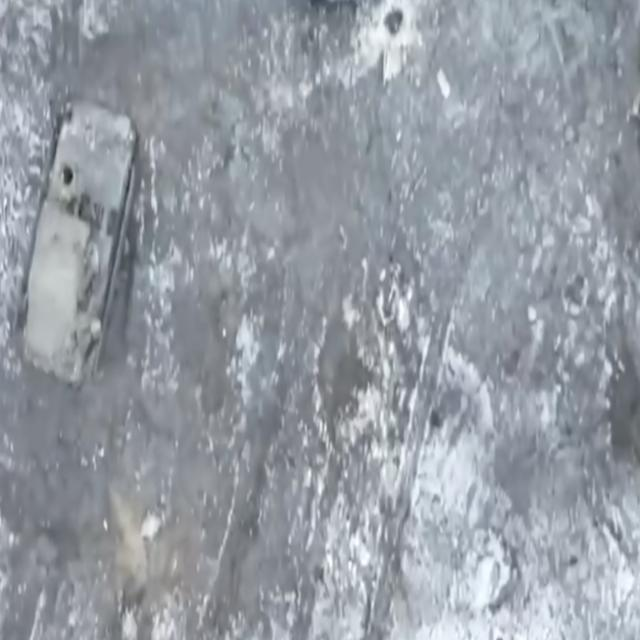vehicle: (20, 99, 139, 386)
